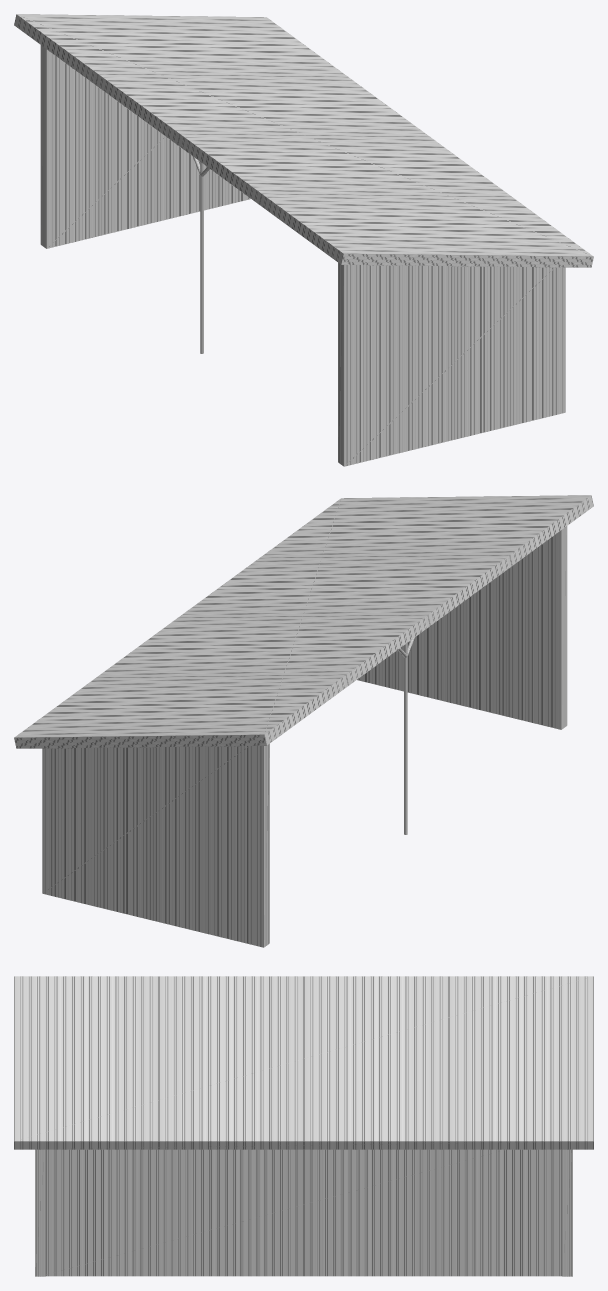
Rendered from metal-field-shelter.gltf.
The picture shows the model from 3 angles, top to bottom: view 1: azimuth 30°, elevation 25°; view 2: azimuth 150°, elevation 25°; view 3: azimuth 270°, elevation 25°; orthographic projection. The views are drawn at different scales.
Parts seen in each view (by area): view 1: base; view 2: base; view 3: base.
Part boxes in pixels (bbox=[...]): base: bbox=[14, 14, 593, 466]; base: bbox=[14, 495, 593, 947]; base: bbox=[14, 976, 593, 1276].
Size of the model in its own units: 0.049 by 0.0417 by 0.11.
Materials: 1 (1 with a texture image).
